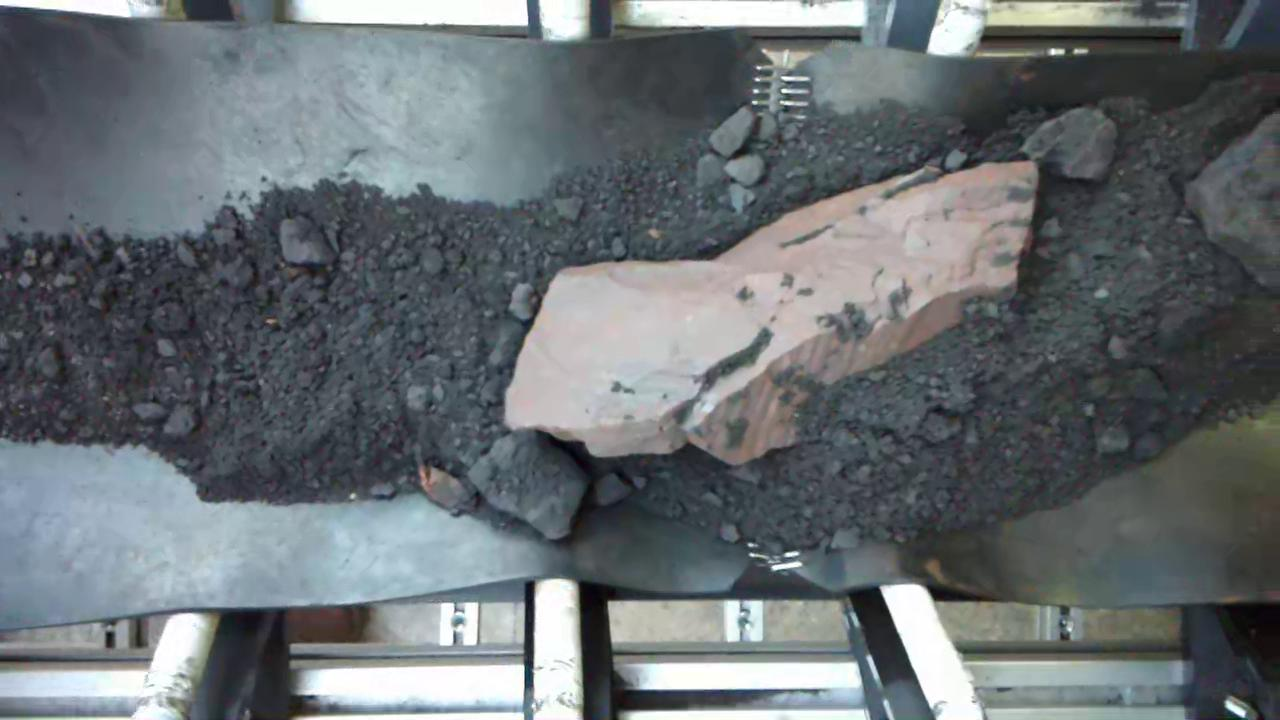conveyor: (0, 58, 1280, 592)
